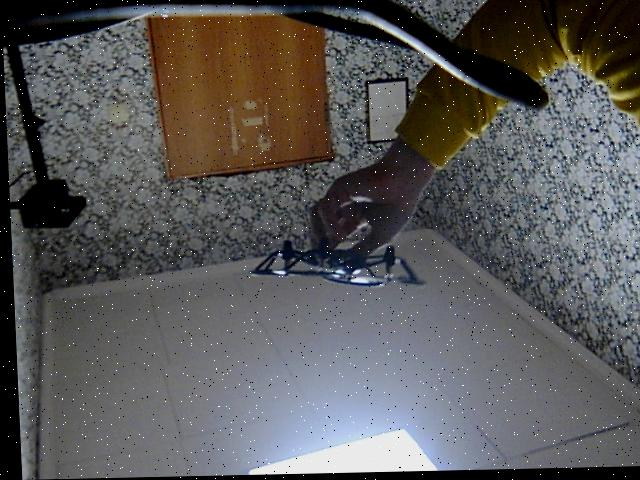drone: (245, 232, 424, 306)
